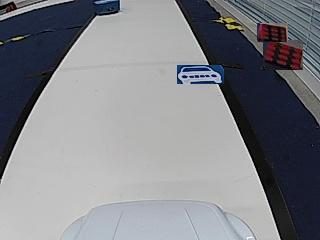prop: (95, 0, 119, 16)
